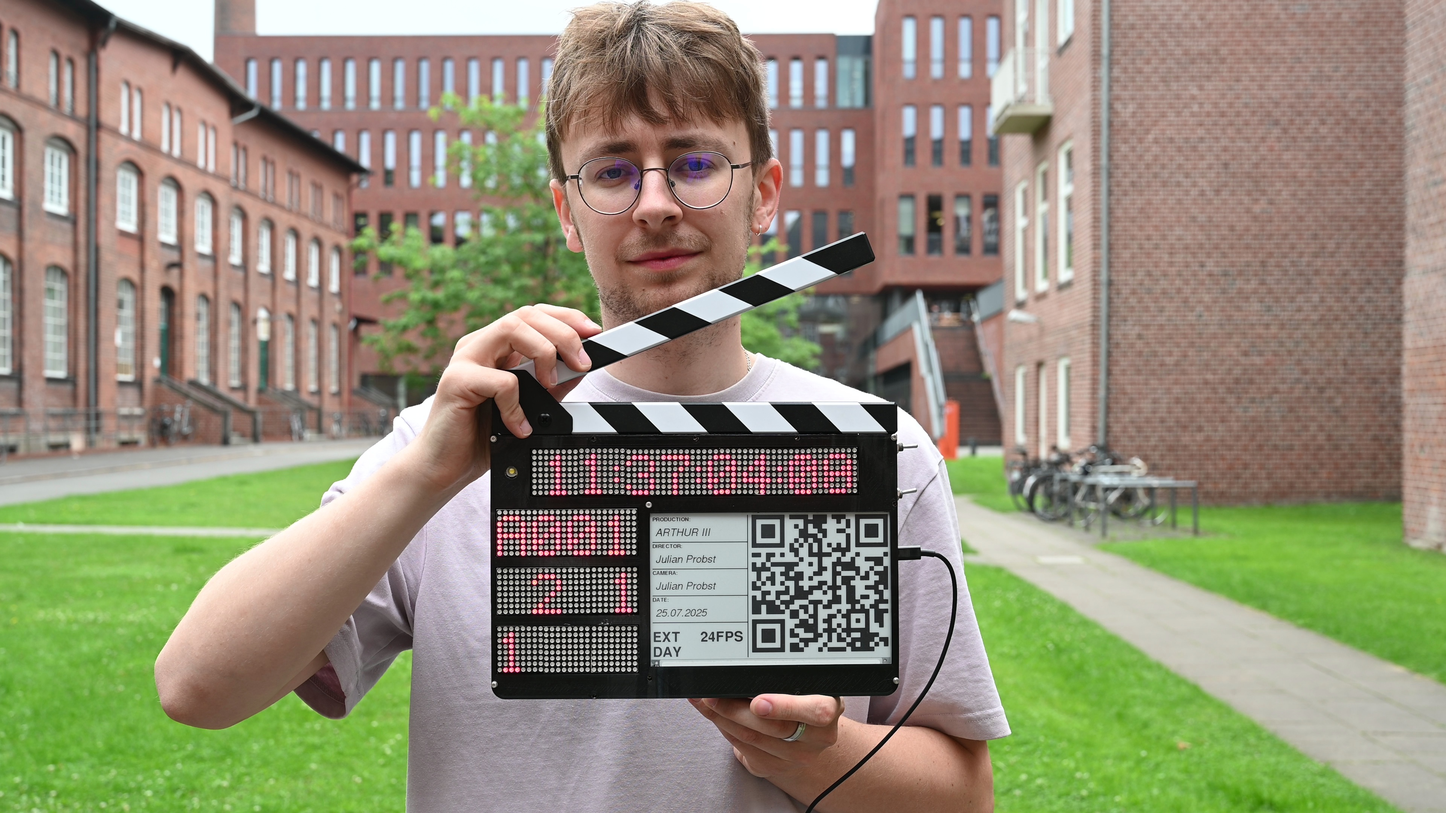ARC-SLATE: (489, 403, 901, 701)
